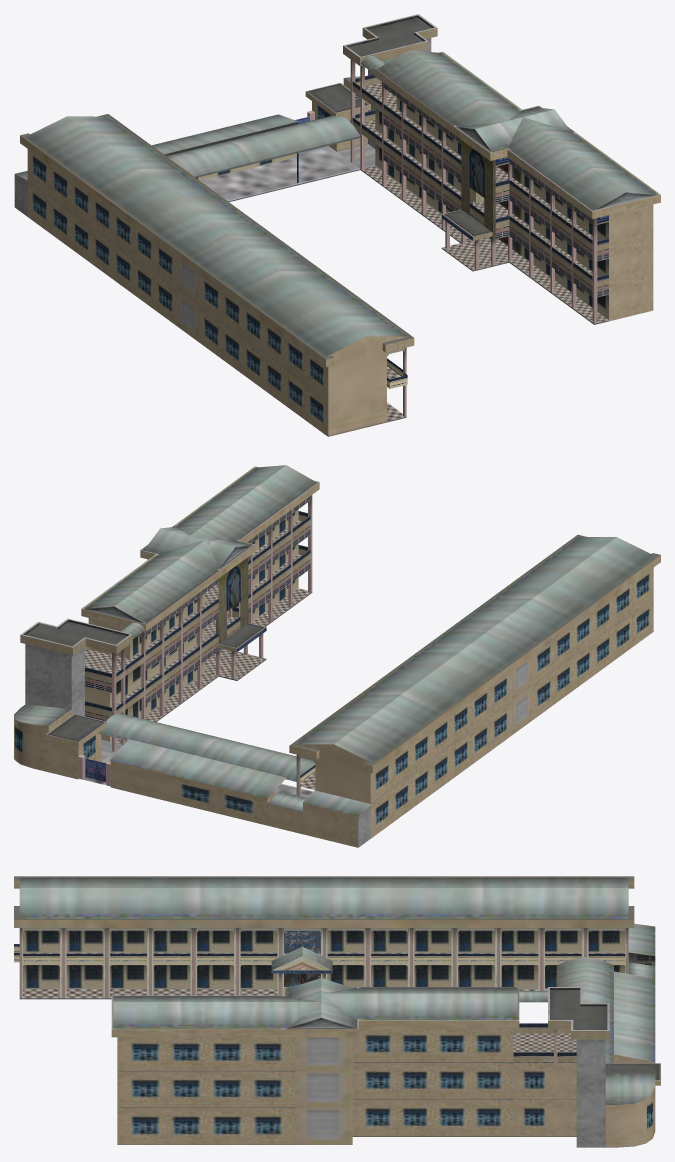
3 views of the same model, one above another, from view 1: azimuth 30°, elevation 25°; view 2: azimuth 150°, elevation 25°; view 3: azimuth 270°, elevation 25° (orthographic). The views are drawn at different scales.
Parts seen in each view (by area): view 1: 5db27af9ce1a280dcc0f128a.001; view 2: 5db27af9ce1a280dcc0f128a.001; view 3: 5db27af9ce1a280dcc0f128a.001.
Part boxes in pixels (x1=…): 5db27af9ce1a280dcc0f128a.001: x1=14, y1=14, x2=660, y2=436; 5db27af9ce1a280dcc0f128a.001: x1=14, y1=465, x2=660, y2=847; 5db27af9ce1a280dcc0f128a.001: x1=14, y1=876, x2=660, y2=1147.
Size of the model in its own units: 39.35 by 12.35 by 56.31.
Materials: 1 (1 with a texture image).
